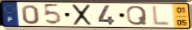0: (21, 3, 42, 26)
4: (97, 4, 119, 26)
5: (42, 3, 63, 27)
L: (152, 5, 172, 27)
Q: (126, 5, 149, 27)
X: (72, 4, 94, 27)
